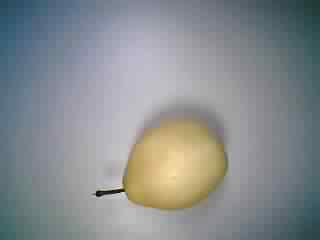pear: (75, 115, 231, 216)
